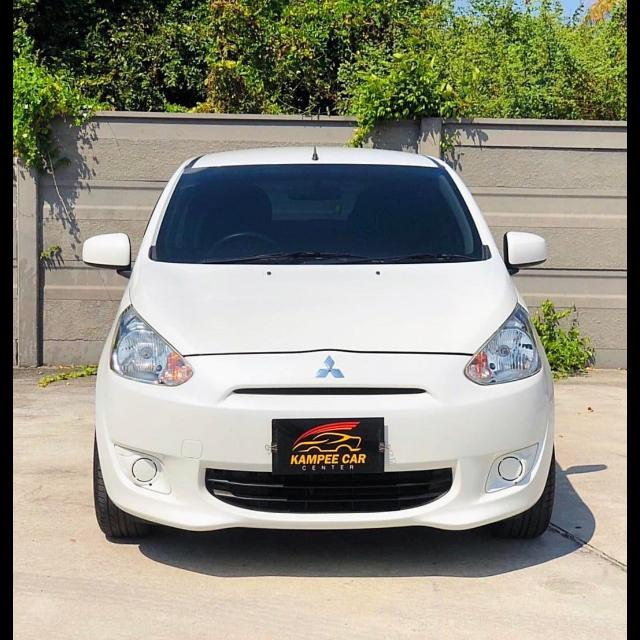cars: (62, 131, 576, 564)
